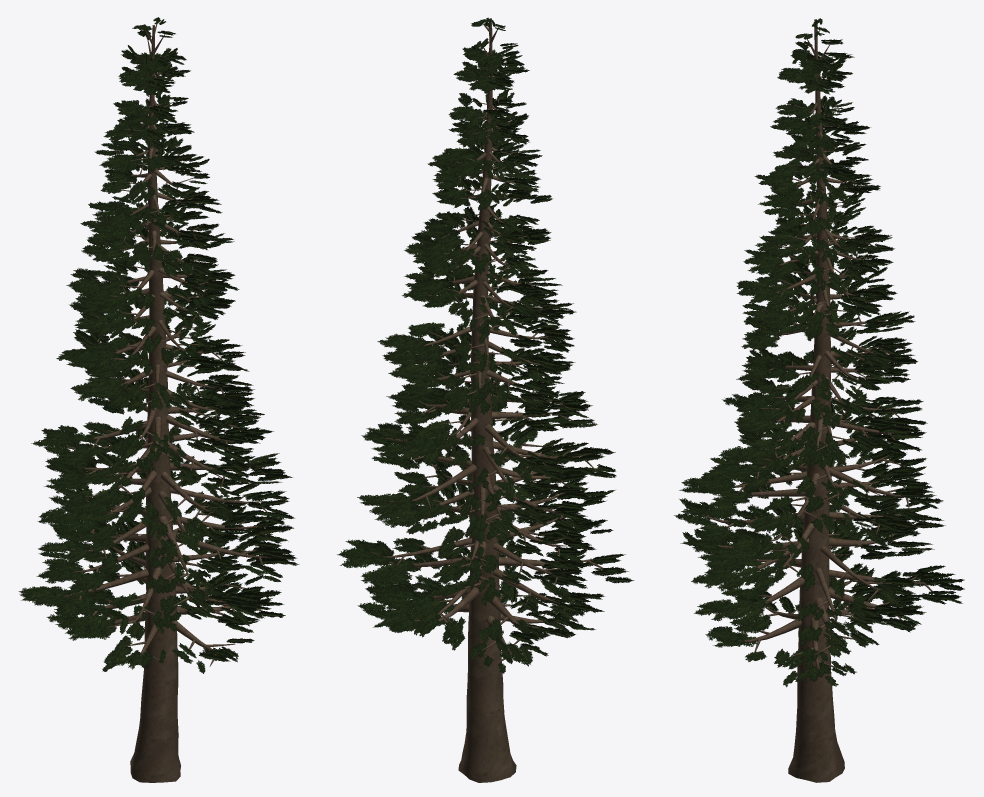
Rendered from pine_tree_002_v3_a_LOD1.gltf.
3 views of the same model, side by side, from view 1: azimuth 30°, elevation 25°; view 2: azimuth 150°, elevation 25°; view 3: azimuth 270°, elevation 25° (orthographic).
Visible parts, largest first — view 1: PineTree002_V3_DeepFir_LOD1; view 2: PineTree002_V3_DeepFir_LOD1; view 3: PineTree002_V3_DeepFir_LOD1.
Boxes of the visible parts, x1,y1,x2,y2 form: PineTree002_V3_DeepFir_LOD1: (18,17,299,782); PineTree002_V3_DeepFir_LOD1: (337,17,633,782); PineTree002_V3_DeepFir_LOD1: (674,18,964,782).
Bounding box in the file's own units: 8.31 × 22.74 × 8.31.
2 materials, 2 textured.
